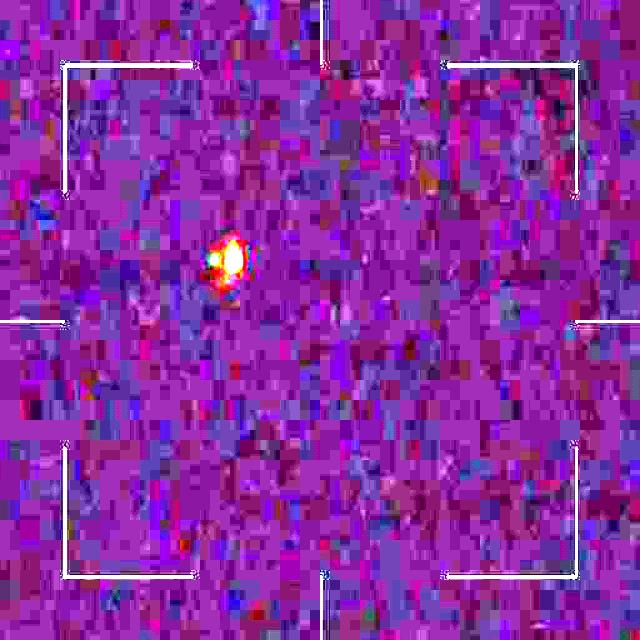bird: (209, 236, 245, 288)
